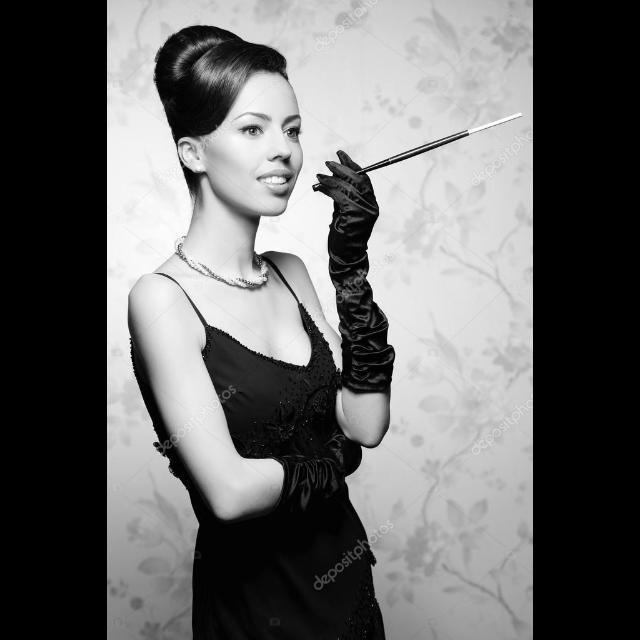rokok: (473, 110, 529, 140)
